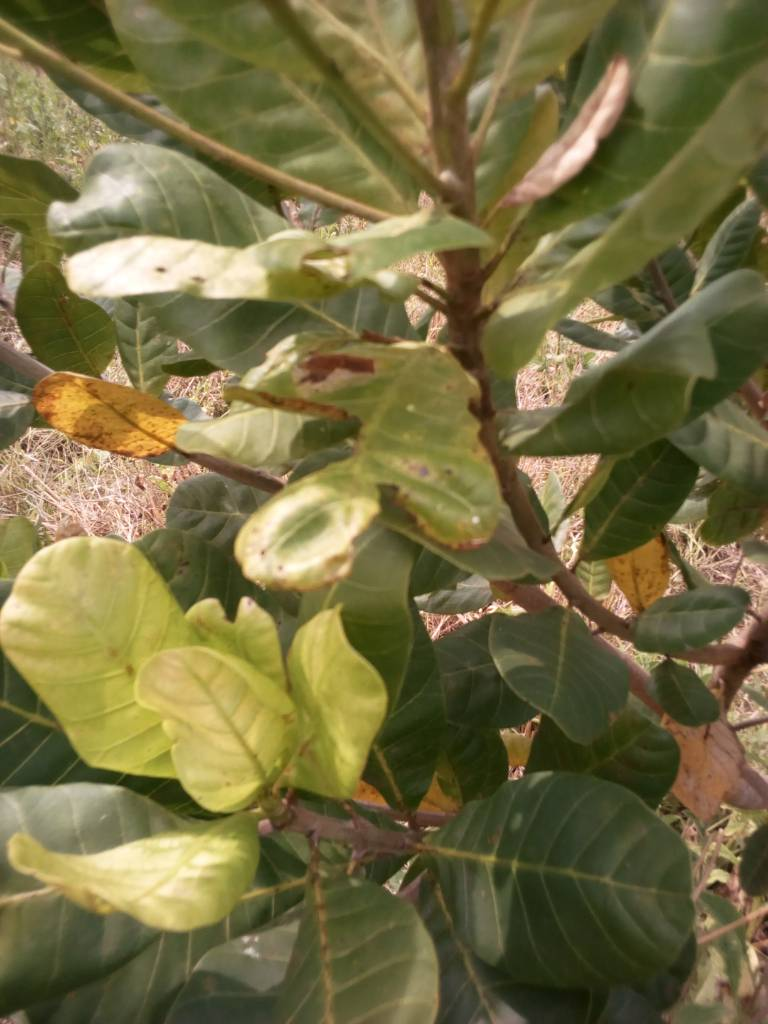Anthracnose: (32, 367, 172, 464)
